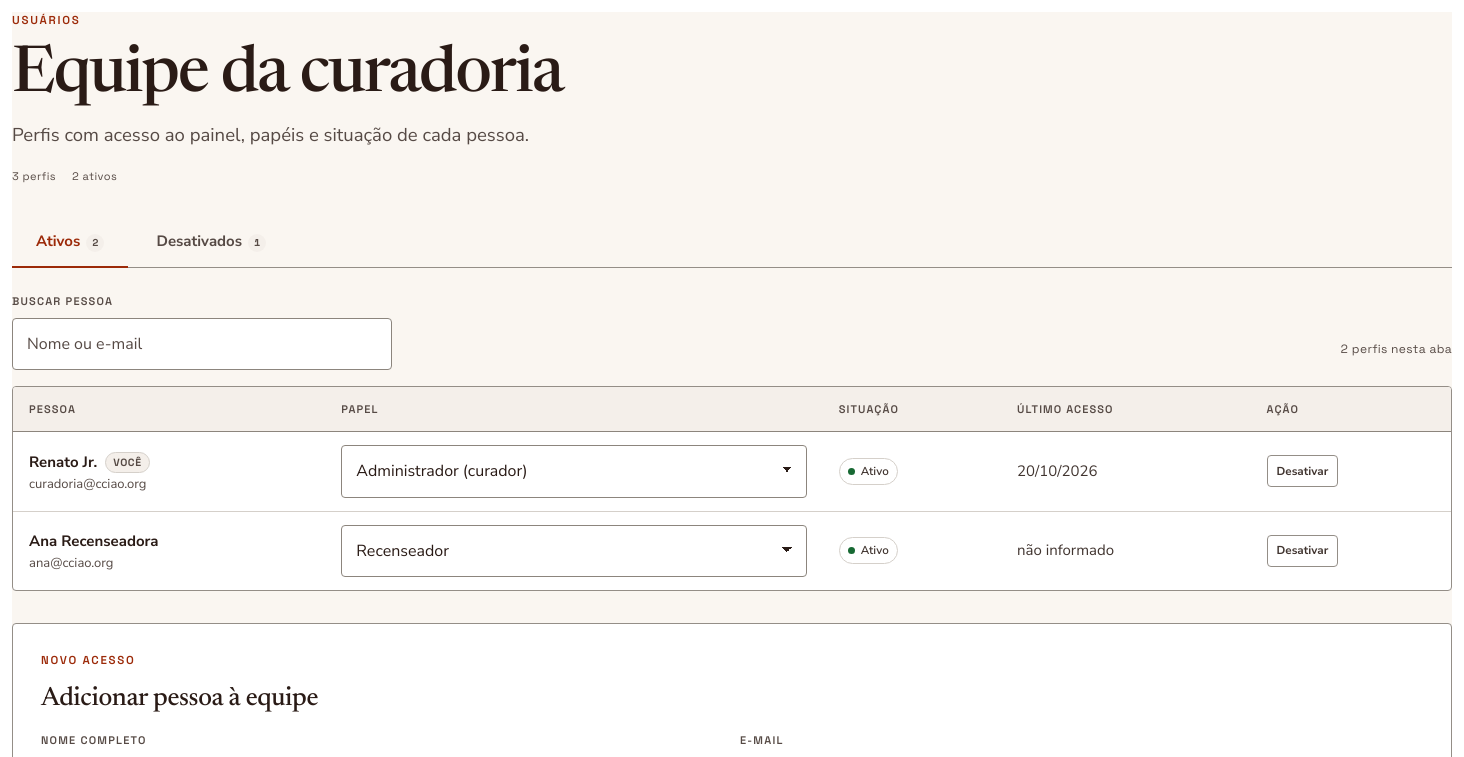
Test: AdminUsers › busca por nome ou e-mail dentro da aba
Expected: the text "Renato Jr." is shown, [29, 452, 97, 472]
Type "ana@" into the search field labelled "Buscar pessoa" at [202, 344], box [12, 318, 392, 370]
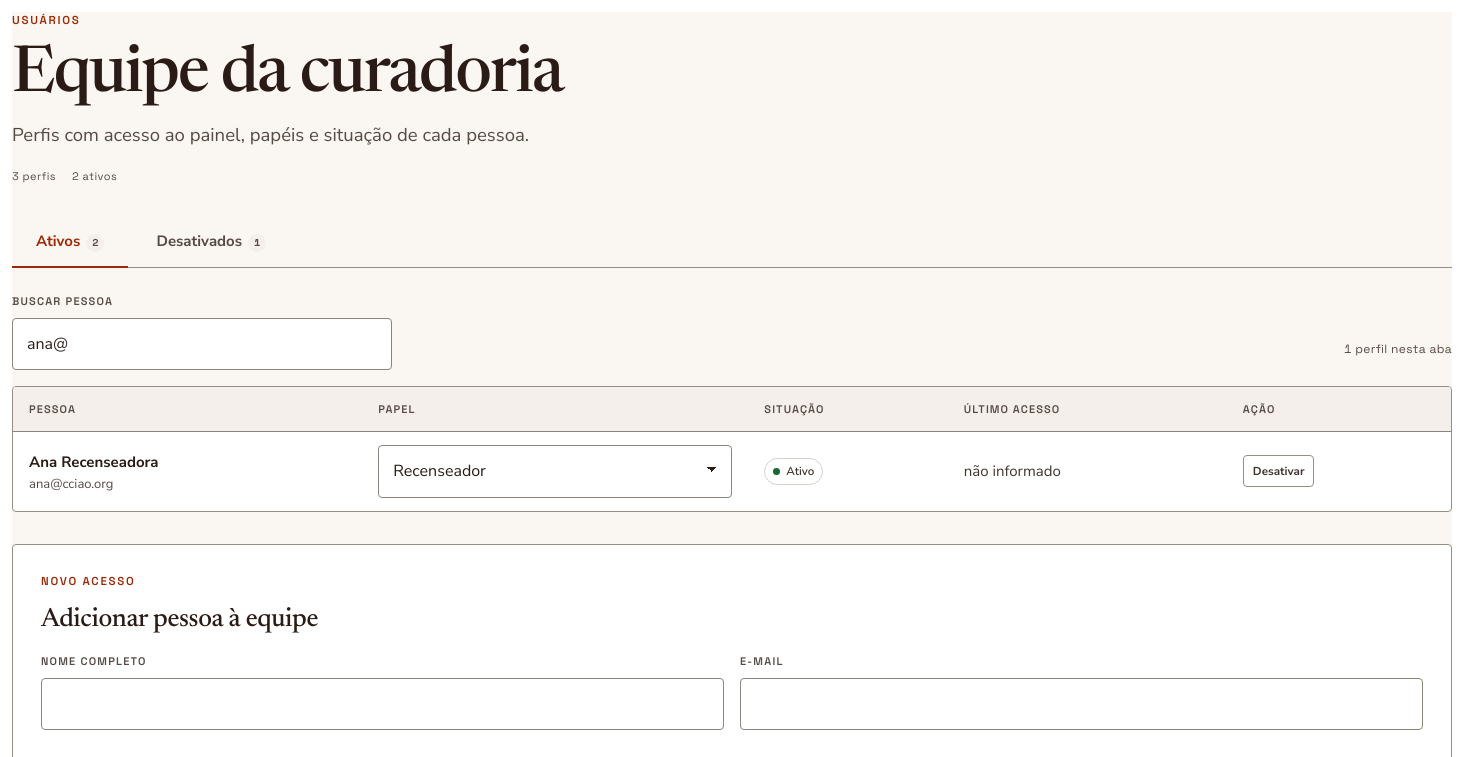
Expected: the text "Ana Recenseadora" is shown, [29, 452, 159, 472]
Result: the text "Renato Jr." is gone
Result: the text "1 perfil nesta aba" is shown at [1344, 340, 1452, 358]
